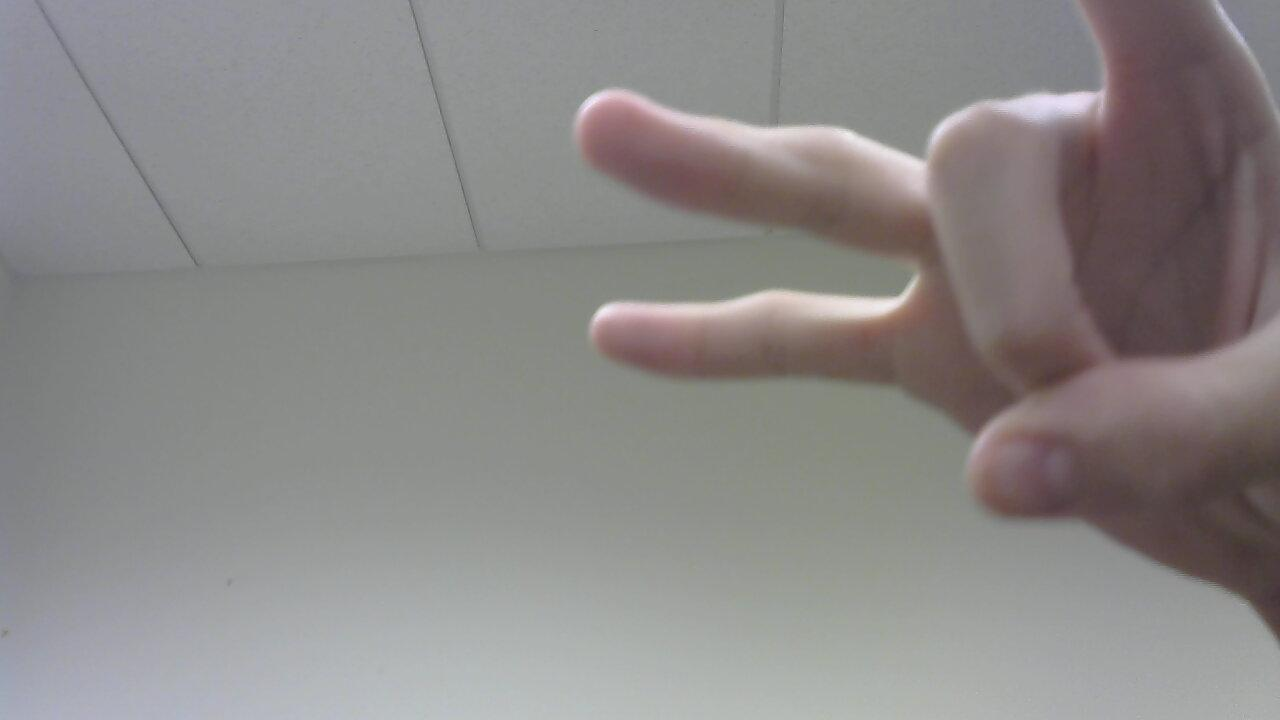hands: (565, 4, 1280, 651)
